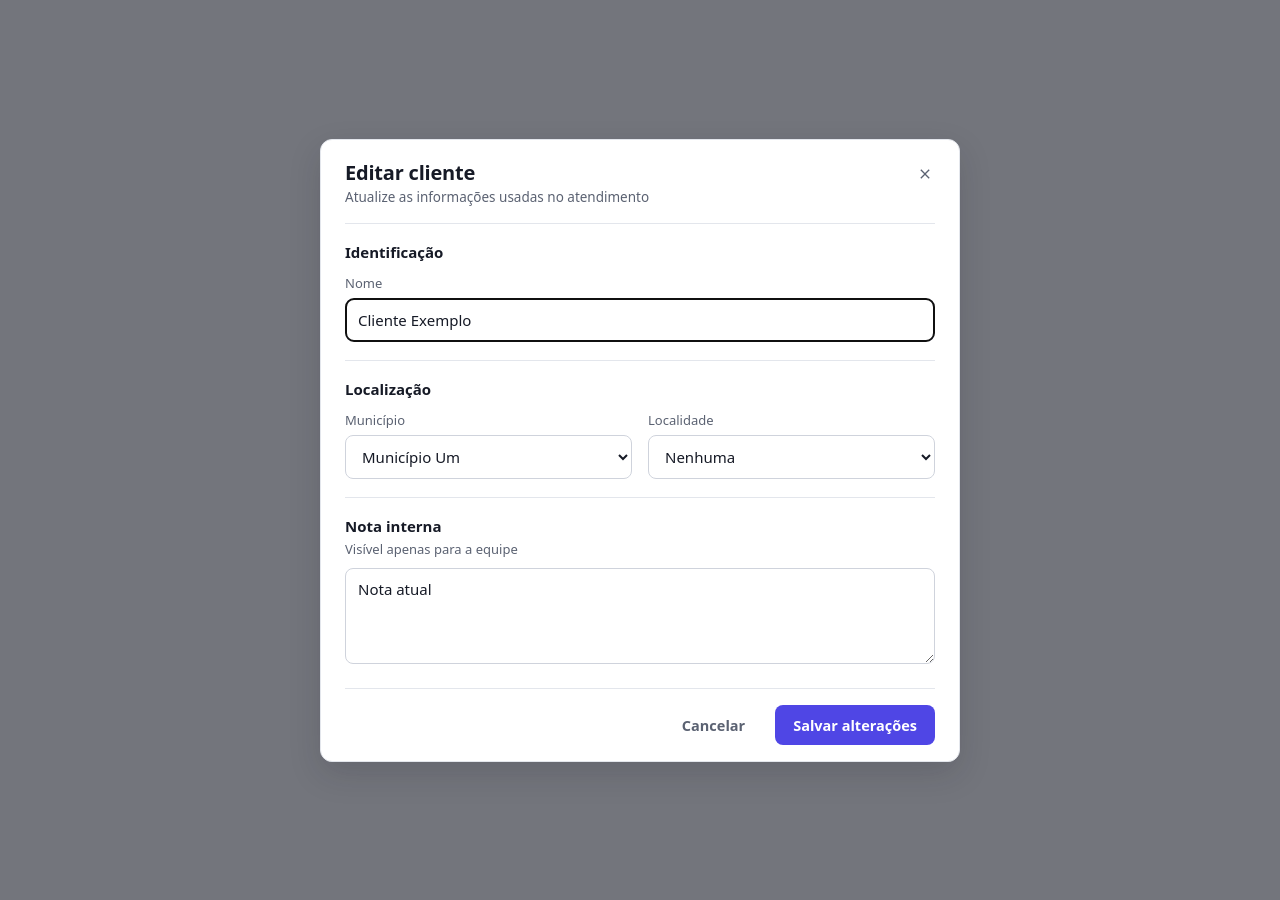
EditContactModal — redesenho › erro de validação conhecido chega traduzido, e o que foi digitado fica
Type " (editado)" into the field labelled "Nome".
click(640, 320); type(" (editado)")  # box [345, 298, 935, 342]
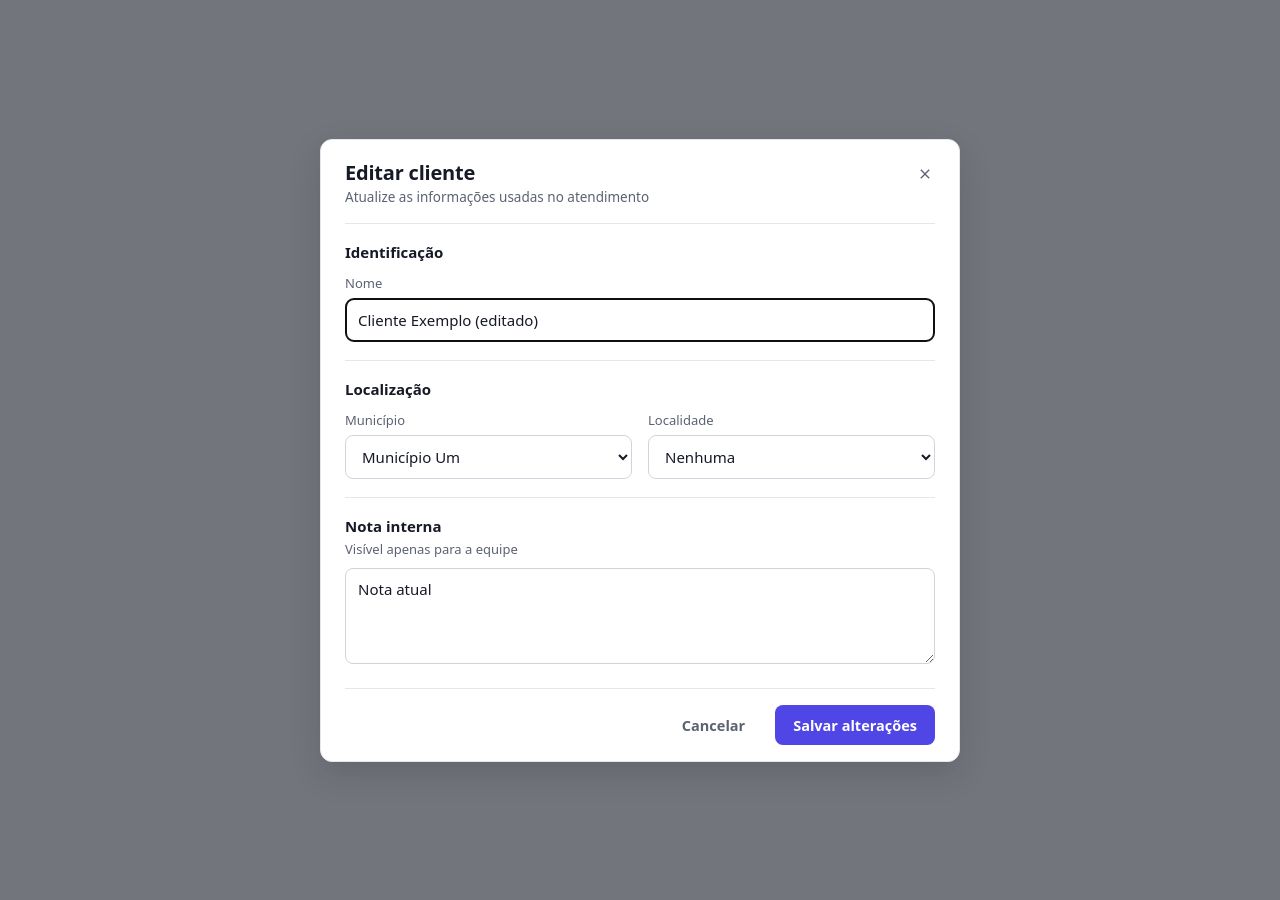
Click the button "Salvar alterações".
click(855, 724)  # box [775, 704, 935, 744]
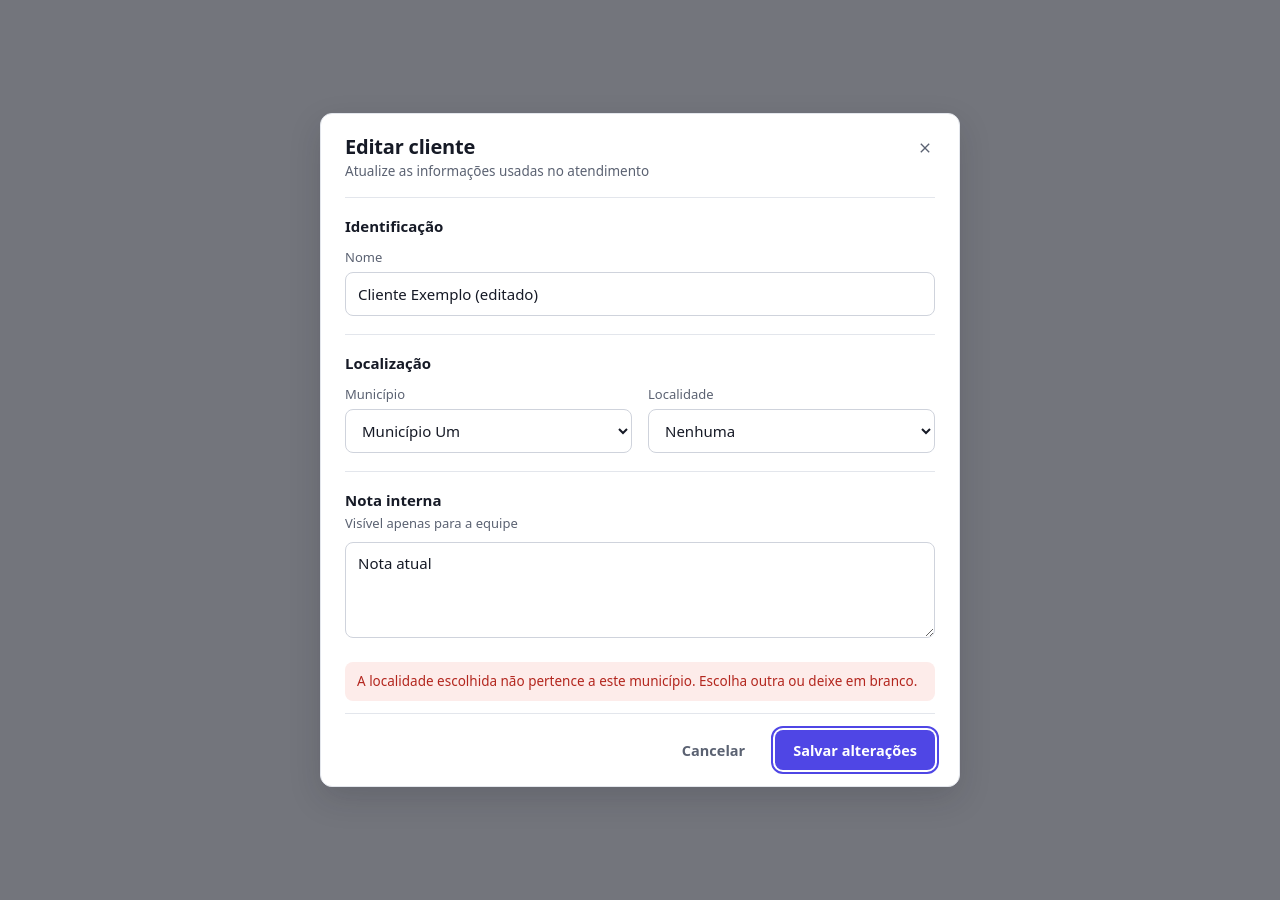
Check: the button "Salvar alterações" is enabled, box [775, 730, 935, 770]
Check: the field labelled "Nome" holds "Cliente Exemplo (editado)", box [345, 272, 935, 316]
Check: the message shows "A localidade escolhida não pertence a este município. Escolha outra ou deixe em branco.", box [357, 672, 917, 690]
